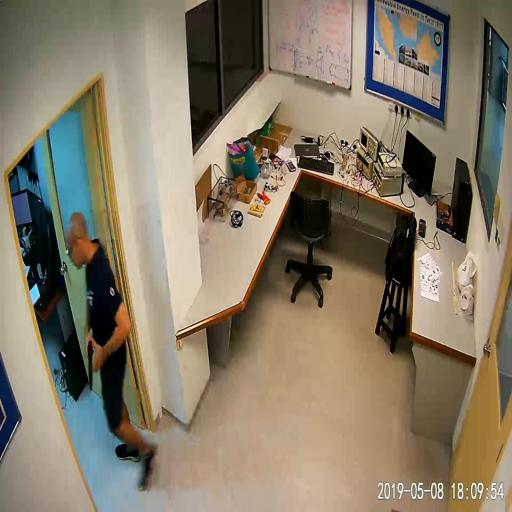pistol: (85, 335, 98, 391)
